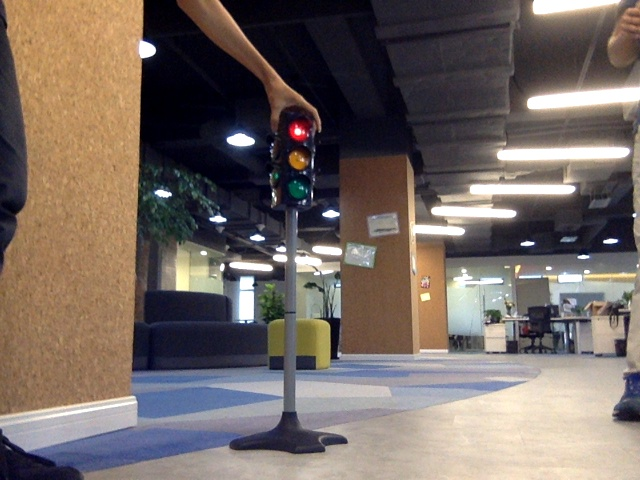red: (283, 120, 311, 199)
